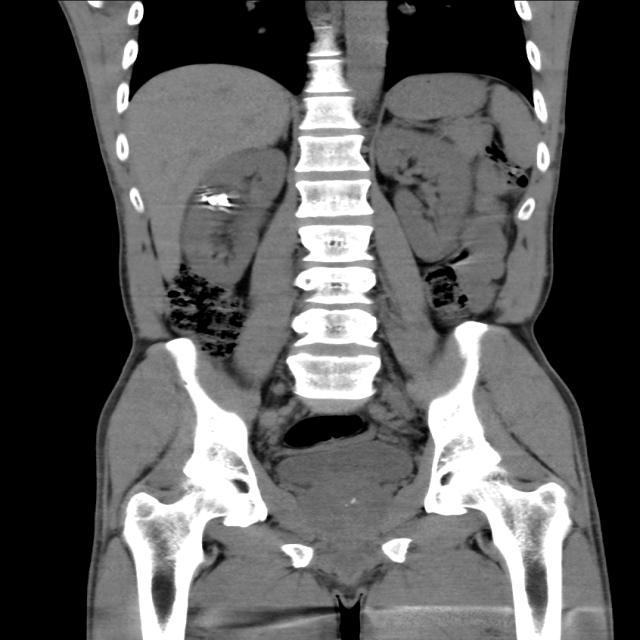kidneystone: (200, 194, 231, 207)
